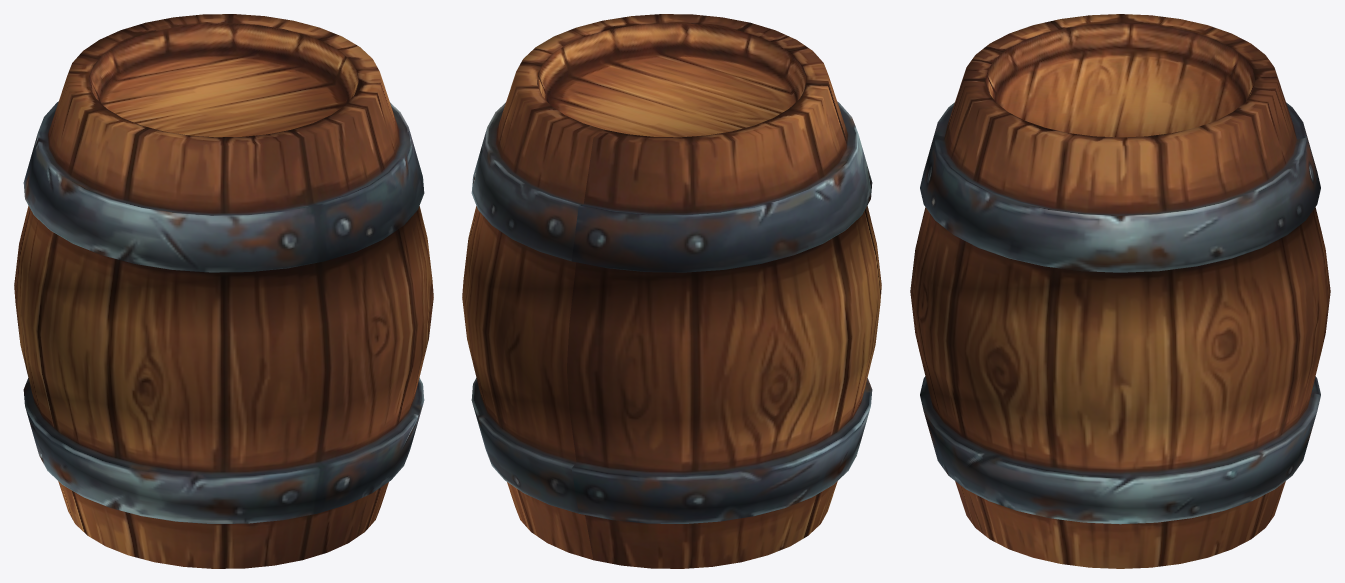
Rendered from barrel.glb.
3 renders of one model, left to right at view 1: azimuth 30°, elevation 25°; view 2: azimuth 150°, elevation 25°; view 3: azimuth 270°, elevation 25°, orthographic.
Parts seen in each view (by area): view 1: Circle; view 2: Circle; view 3: Circle.
Boxes of the visible parts, x1,y1,x2,y2 form: Circle: [14, 14, 433, 568]; Circle: [462, 14, 881, 568]; Circle: [910, 14, 1330, 568].
Size of the model in its own units: 1.99 by 2.21 by 1.99.
Materials: 1 (1 with a texture image).
